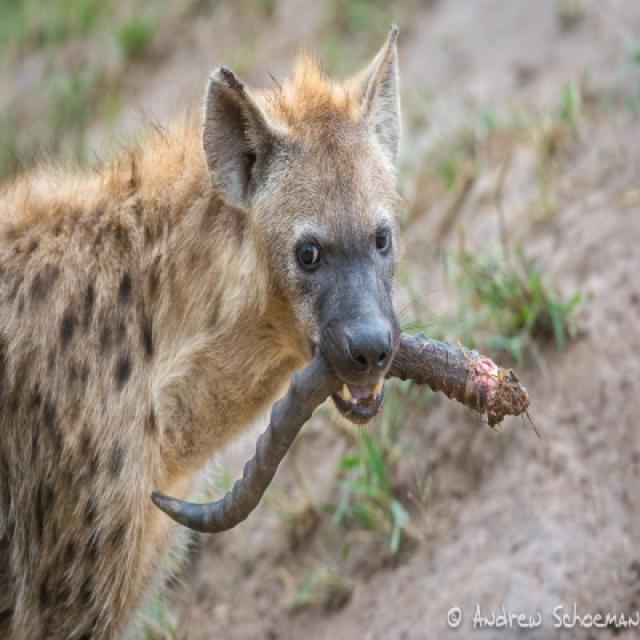hyena: (0, 26, 405, 637)
